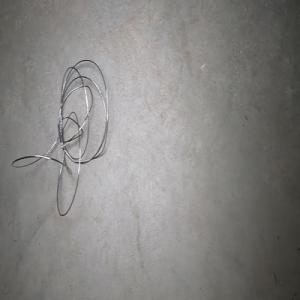Wire: (11, 59, 108, 216)
